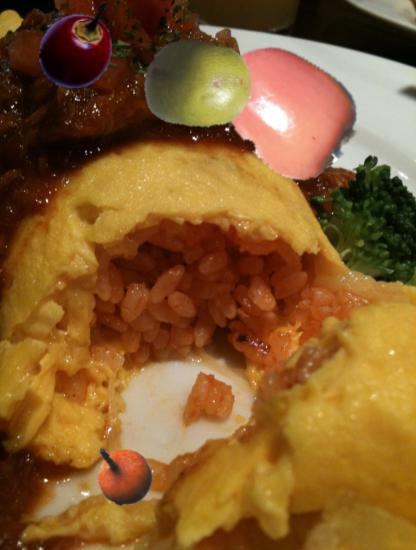Granadilla: (92, 446, 154, 508)
Kaki: (216, 34, 361, 179)
Pomelo: (143, 30, 253, 140)
Tamarillo: (34, 5, 118, 89)
